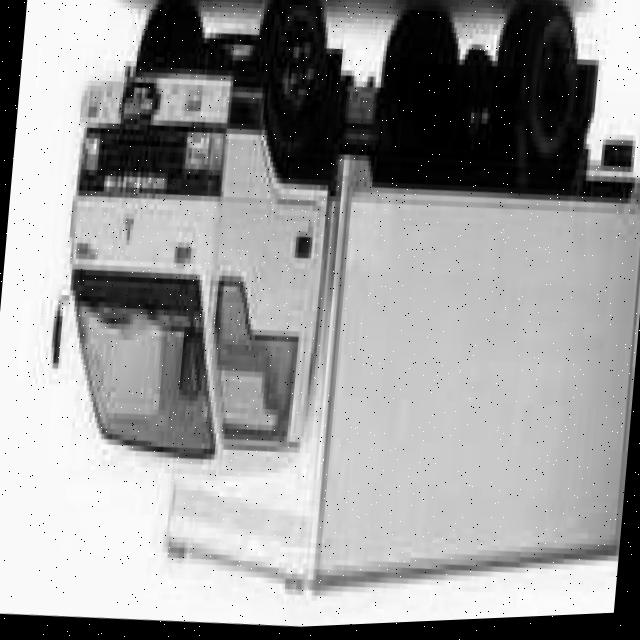truck: (33, 1, 366, 541)
